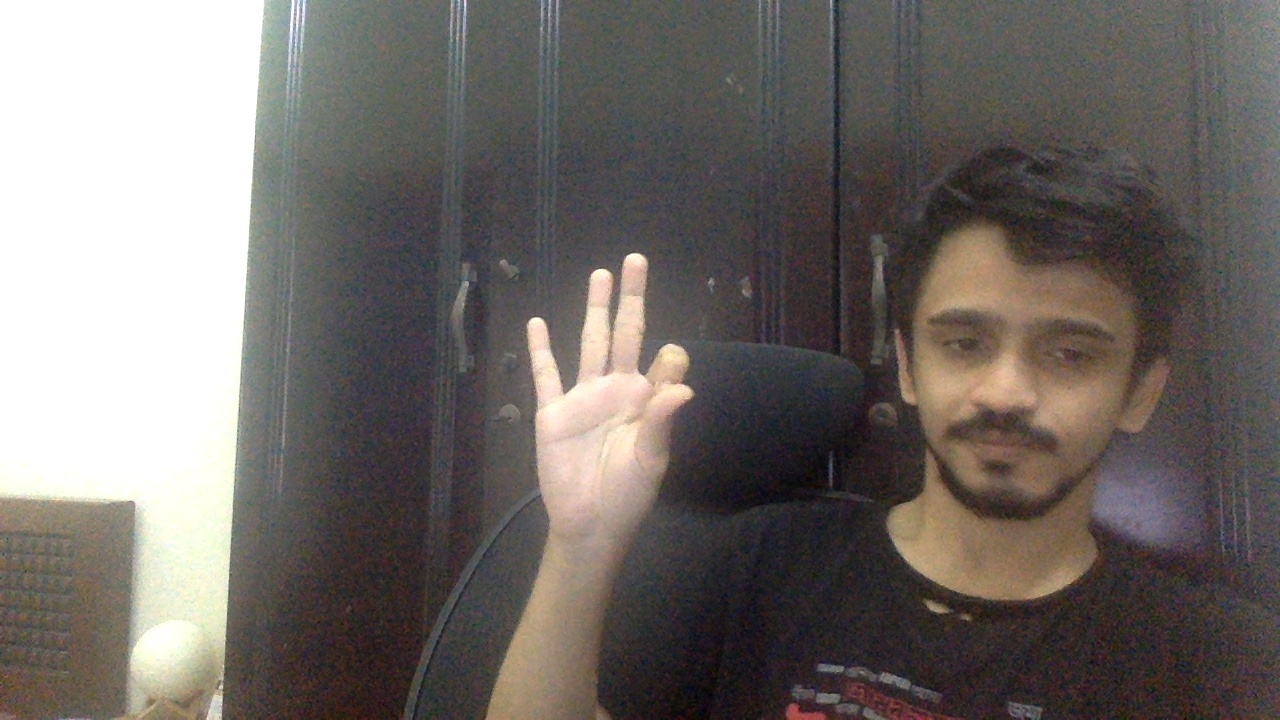perfect: (526, 251, 694, 543)
